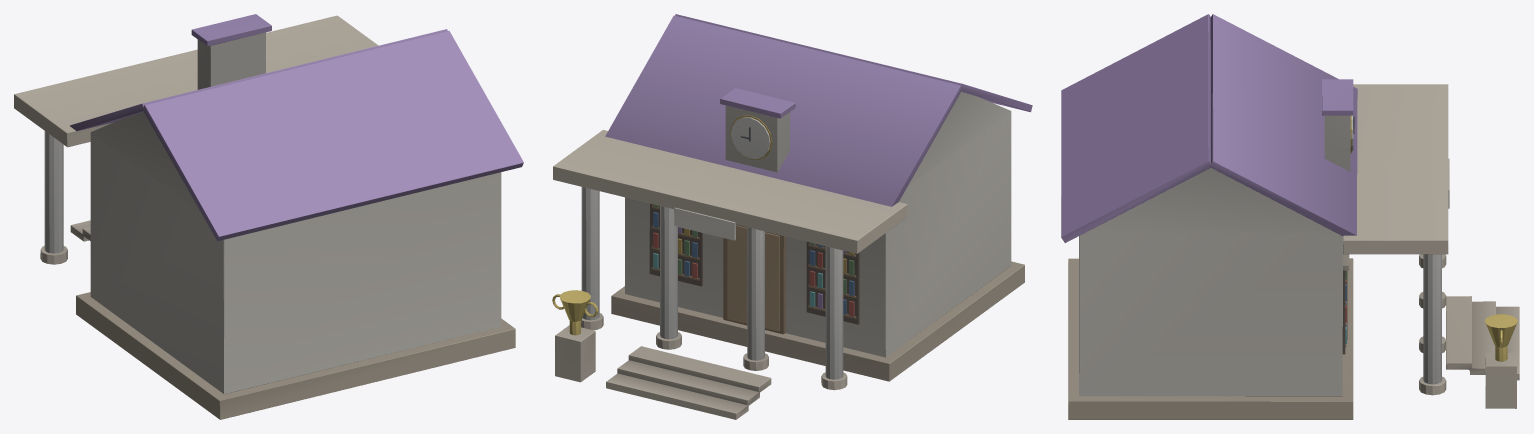
The model's file is records_hall_low.glb.
The picture shows the model from 3 angles, left to right: view 1: azimuth 30°, elevation 25°; view 2: azimuth 150°, elevation 25°; view 3: azimuth 270°, elevation 25°; orthographic projection. The views are drawn at different scales.
Size of the model in its own units: 7 by 5.46 by 8.68.
